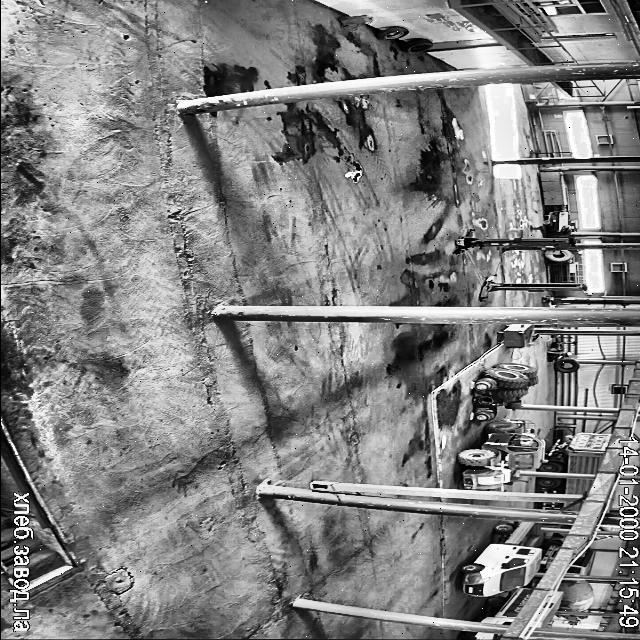class6: (458, 420, 544, 489), (475, 362, 538, 420)
class7: (460, 522, 541, 596), (540, 432, 612, 473), (482, 588, 532, 624), (558, 580, 594, 616), (539, 477, 591, 494), (538, 592, 562, 628), (540, 537, 562, 572), (567, 549, 595, 574), (462, 632, 500, 640), (543, 500, 563, 508), (570, 504, 580, 510)
truck: (479, 275, 586, 300), (454, 230, 574, 252)
